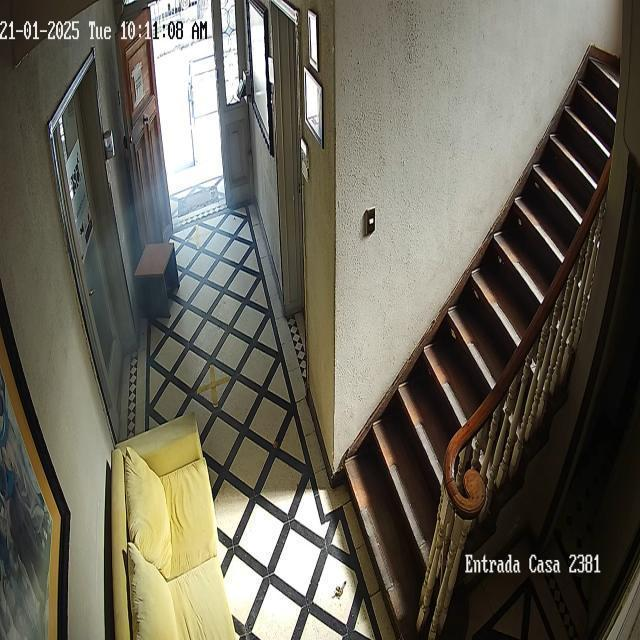fire: (85, 97, 236, 457)
